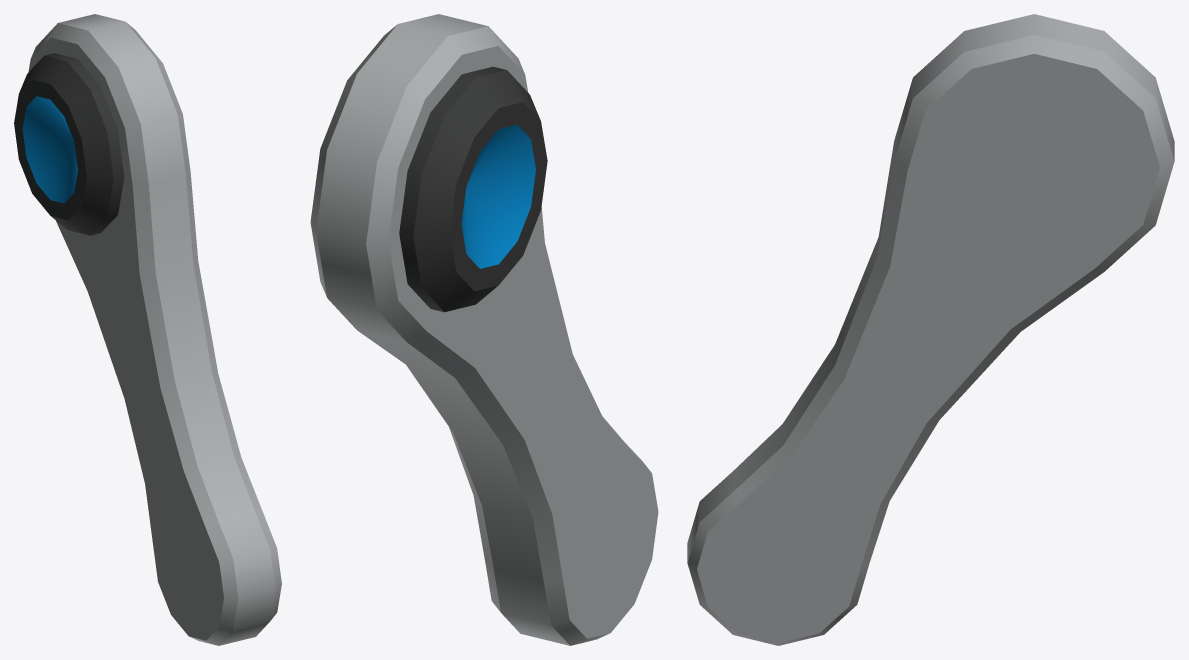
Rendered from Drone_002_R_Arm_001.fbx.
3 views of the same model, side by side, from view 1: azimuth 30°, elevation 25°; view 2: azimuth 150°, elevation 25°; view 3: azimuth 270°, elevation 25° (orthographic). The views are drawn at different scales.
Parts seen in each view (by area): view 1: Drone_002_R_Arm_001; view 2: Drone_002_R_Arm_001; view 3: Drone_002_R_Arm_001.
Boxes of the visible parts, x1,y1,x2,y2 form: Drone_002_R_Arm_001: [14, 14, 281, 645]; Drone_002_R_Arm_001: [310, 14, 658, 645]; Drone_002_R_Arm_001: [687, 14, 1174, 645].
Size of the model in its own units: 4.35 by 18.62 by 25.78.
